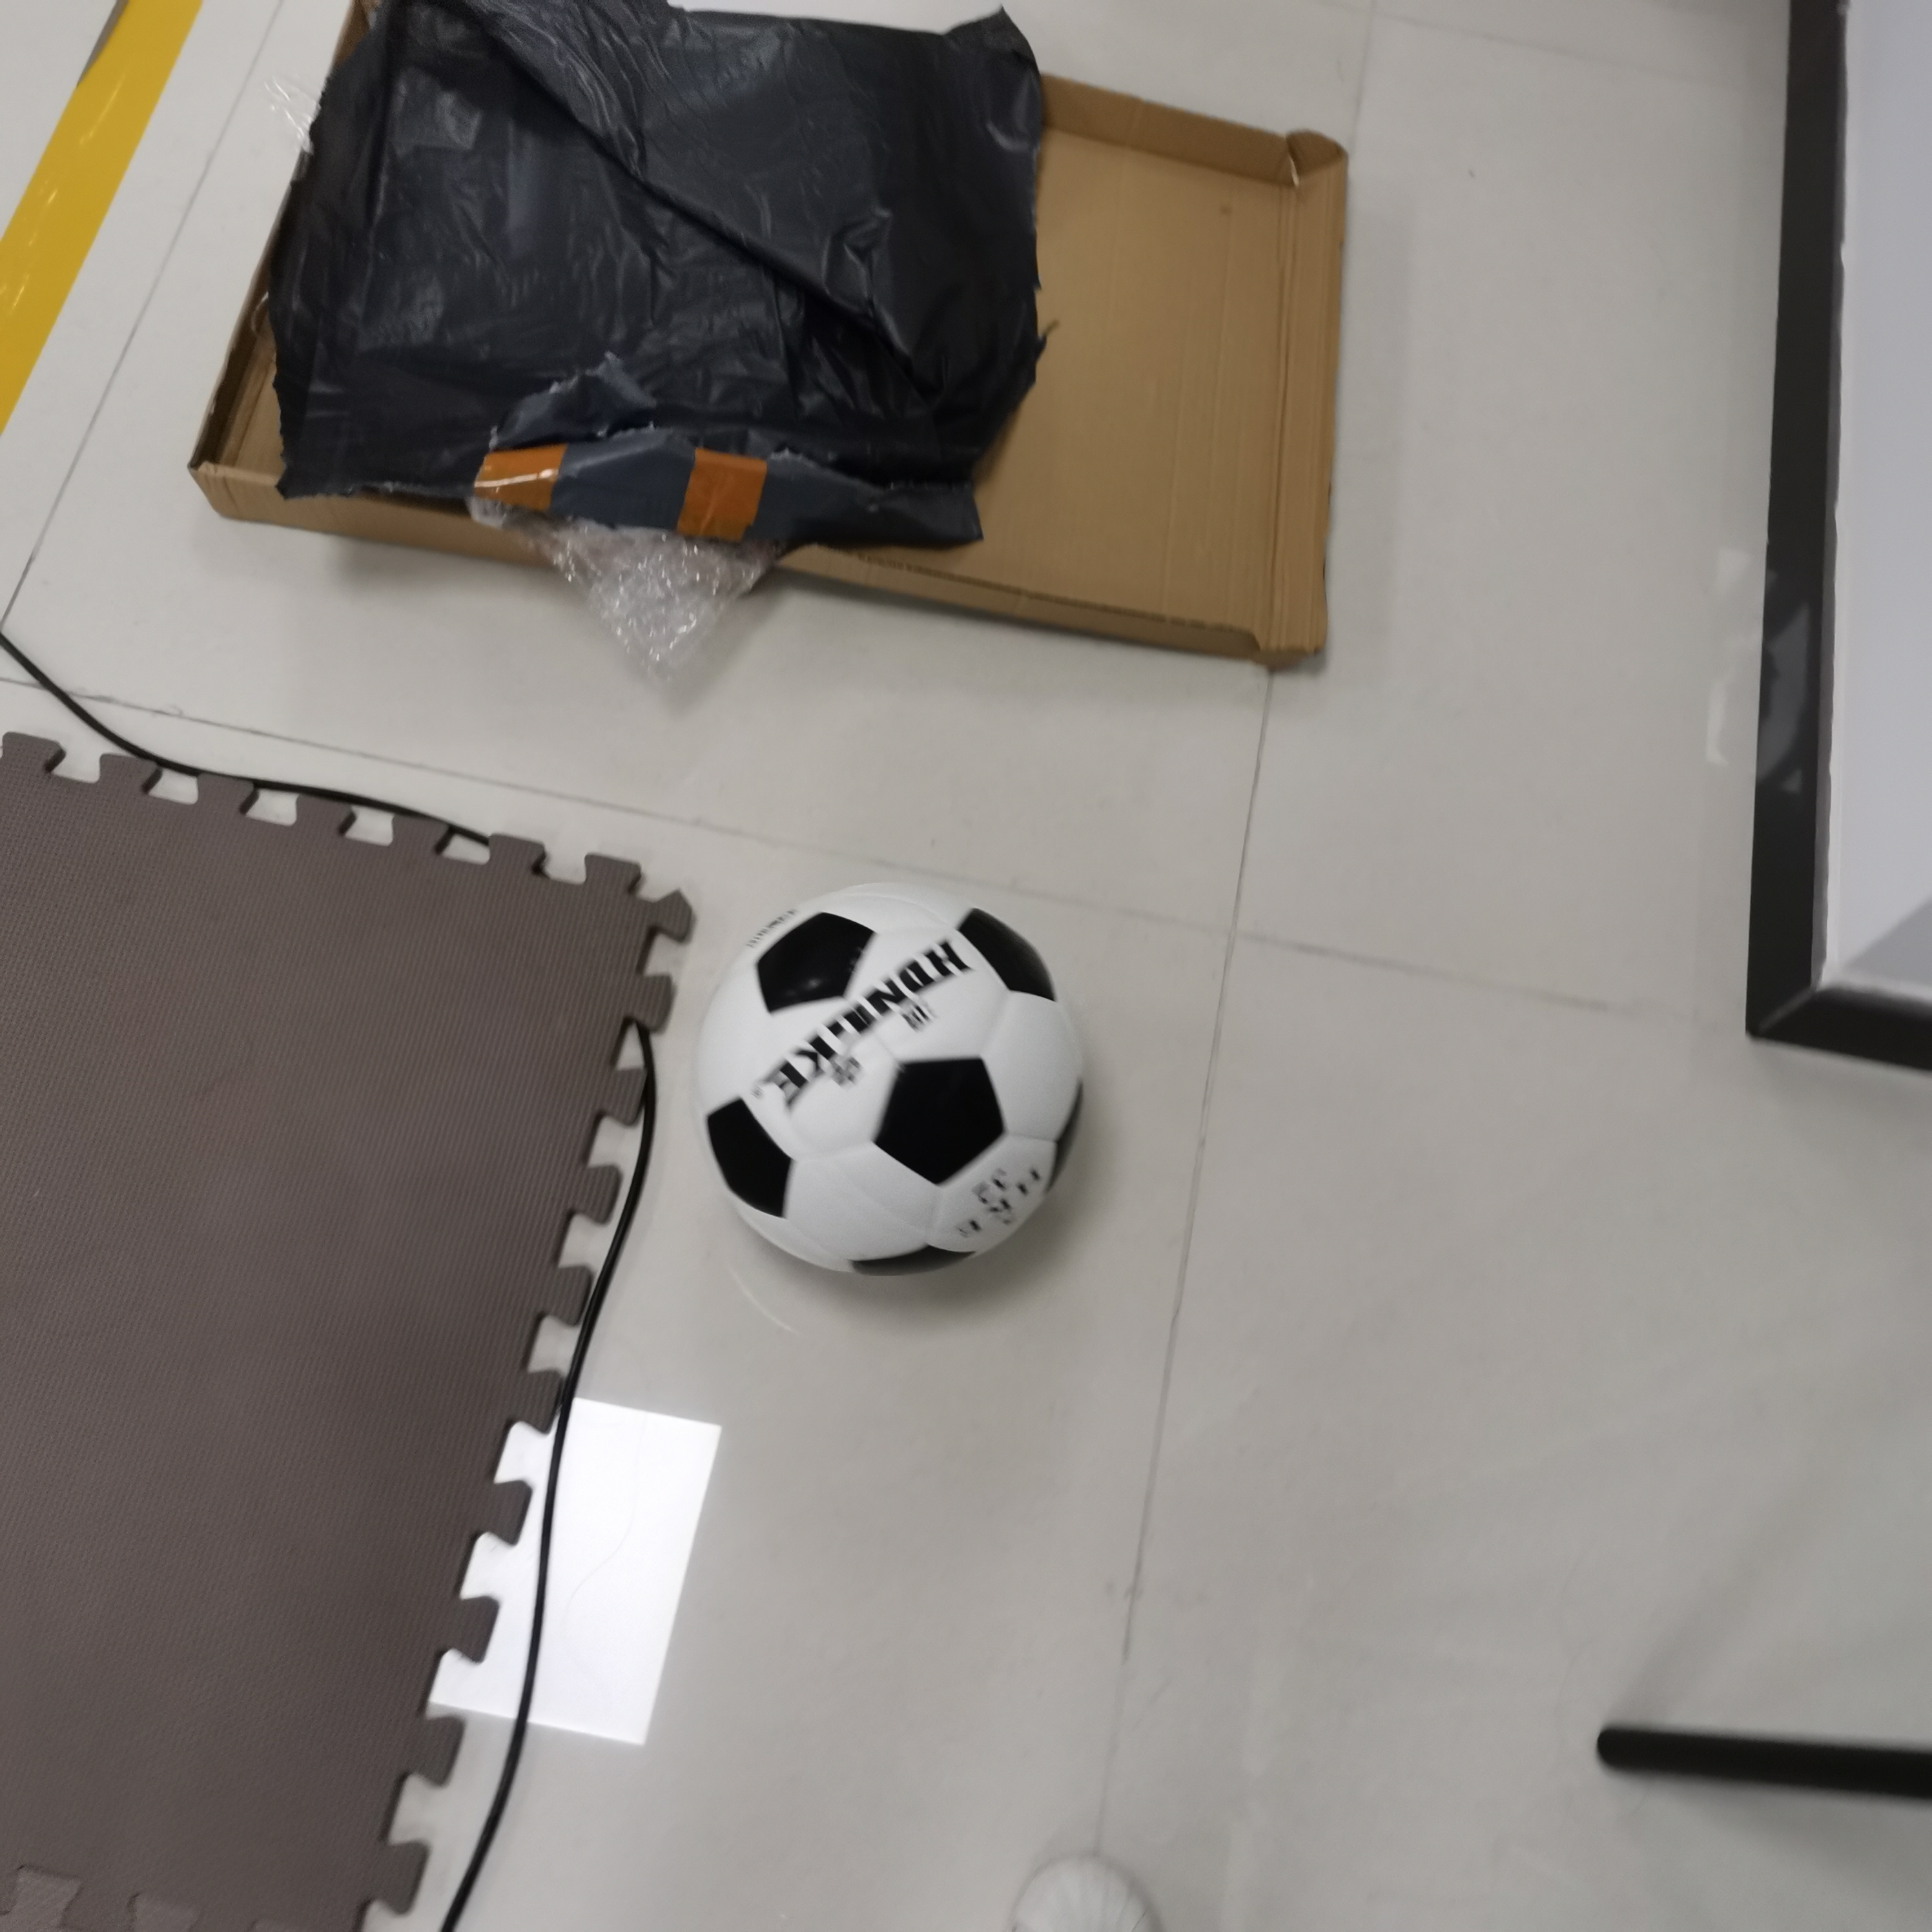football: (690, 879, 1081, 1286)
